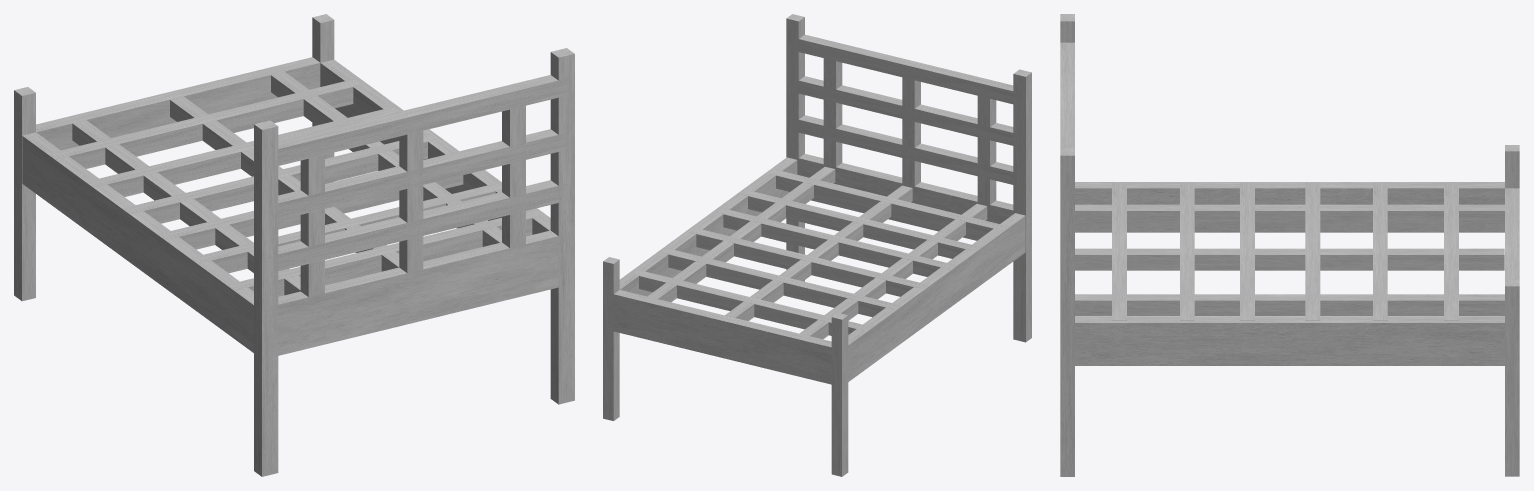
File: bedframeafterhours.fbx
3 renders of one model, left to right at view 1: azimuth 30°, elevation 25°; view 2: azimuth 150°, elevation 25°; view 3: azimuth 270°, elevation 25°, orthographic. The views are drawn at different scales.
Visible parts, largest first — view 1: Cube.002; view 2: Cube.002; view 3: Cube.002.
Boxes of the visible parts, left/top/right/bottom form: Cube.002: left=14, top=14, right=574, bottom=476; Cube.002: left=603, top=14, right=1031, bottom=476; Cube.002: left=1060, top=14, right=1519, bottom=476.
Size of the model in its own units: 752 by 796 by 1032.
